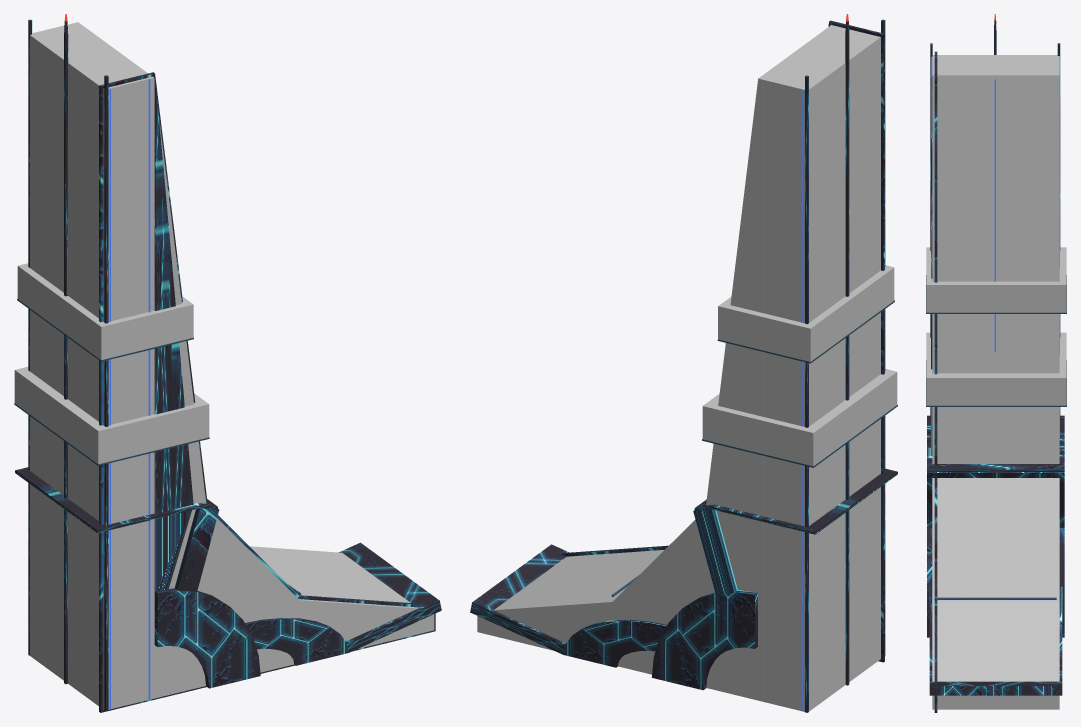
File: building3.gltf
The picture shows the model from 3 angles, left to right: view 1: azimuth 30°, elevation 25°; view 2: azimuth 150°, elevation 25°; view 3: azimuth 270°, elevation 25°; orthographic projection. The views are drawn at different scales.
Visible parts, largest first — view 1: 0_curve_.039, Circle.001, Plane.043, Plane.054, Plane.051, Circle.002, 0_curve_.003, Plane.041, Plane.044, Plane.049, Plane.042, Plane.045; view 2: 0_curve_.039, Circle.001, Plane.054, Plane.051, Circle.002, 0_curve_.003, Plane.044, Plane.042; view 3: 0_curve_.039, Plane.054, Plane.051, Circle.001, Circle.002, 0_curve_.003, Plane.043, Plane.050, Plane.053, 0_curve_.002, Plane.052, Plane.042 (+2 smaller).
Boxes of the visible parts, bbox=[...] form: 0_curve_.039: bbox=[30, 22, 434, 709]; Circle.001: bbox=[15, 467, 260, 688]; Plane.043: bbox=[154, 80, 193, 591]; Plane.054: bbox=[14, 366, 209, 464]; Plane.051: bbox=[17, 263, 193, 359]; Circle.002: bbox=[245, 542, 441, 665]; 0_curve_.003: bbox=[99, 72, 435, 712]; Plane.041: bbox=[104, 75, 108, 711]; Plane.044: bbox=[64, 14, 68, 684]; Plane.049: bbox=[148, 79, 150, 700]; Plane.042: bbox=[28, 19, 32, 655]; Plane.045: bbox=[109, 88, 110, 709]; 0_curve_.039: bbox=[477, 25, 880, 711]; Circle.001: bbox=[651, 468, 897, 690]; Plane.054: bbox=[702, 369, 897, 466]; Plane.051: bbox=[718, 265, 894, 361]; Circle.002: bbox=[470, 544, 666, 667]; 0_curve_.003: bbox=[561, 20, 884, 662]; Plane.044: bbox=[845, 14, 849, 685]; Plane.042: bbox=[805, 75, 808, 712]; 0_curve_.039: bbox=[932, 55, 1059, 709]; Plane.054: bbox=[926, 332, 1066, 405]; Plane.051: bbox=[926, 247, 1066, 312]; Circle.001: bbox=[927, 415, 1064, 637]; Circle.002: bbox=[929, 586, 1062, 695]; 0_curve_.003: bbox=[934, 51, 937, 712]; Plane.043: bbox=[931, 77, 932, 455]; Plane.050: bbox=[994, 79, 995, 352]; Plane.053: bbox=[926, 360, 1066, 406]; 0_curve_.002: bbox=[937, 597, 1056, 599]; Plane.052: bbox=[926, 275, 1066, 313]; Plane.042: bbox=[1057, 43, 1060, 420].
Size of the model in its own units: 8.96 by 16.62 by 3.77.
